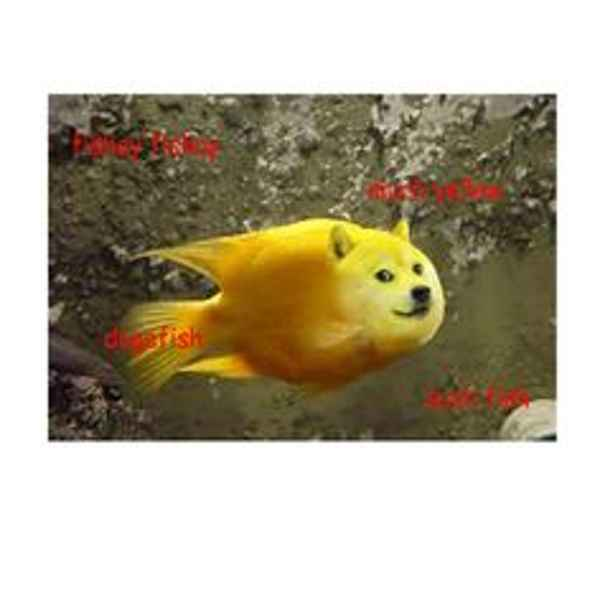doge: (326, 211, 456, 354)
